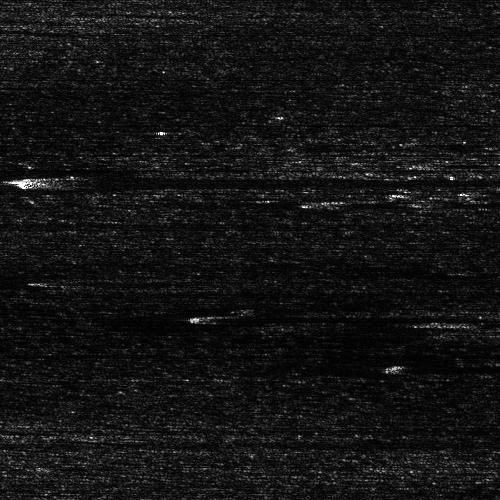rock: (4, 174, 97, 187), (404, 316, 477, 327), (328, 196, 381, 205), (187, 312, 240, 319), (19, 278, 82, 283), (387, 360, 418, 369)
shadow: (51, 174, 500, 187), (214, 312, 448, 319), (51, 278, 200, 283), (403, 360, 485, 369), (355, 196, 435, 205), (441, 316, 500, 327)
